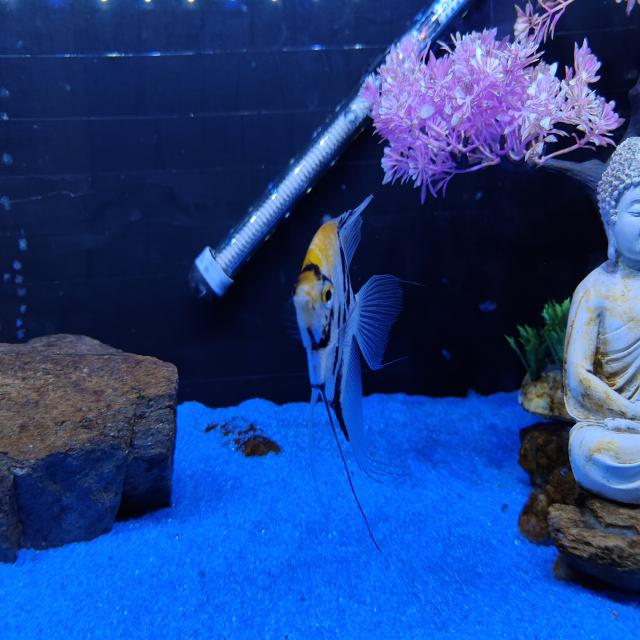Fish: (294, 195, 402, 483)
